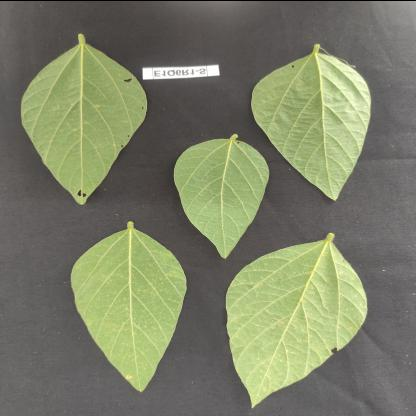label: (140, 51, 224, 85)
leaflets: (208, 235, 388, 410), (48, 231, 189, 415), (252, 27, 386, 209), (9, 38, 140, 196), (168, 142, 266, 252)
